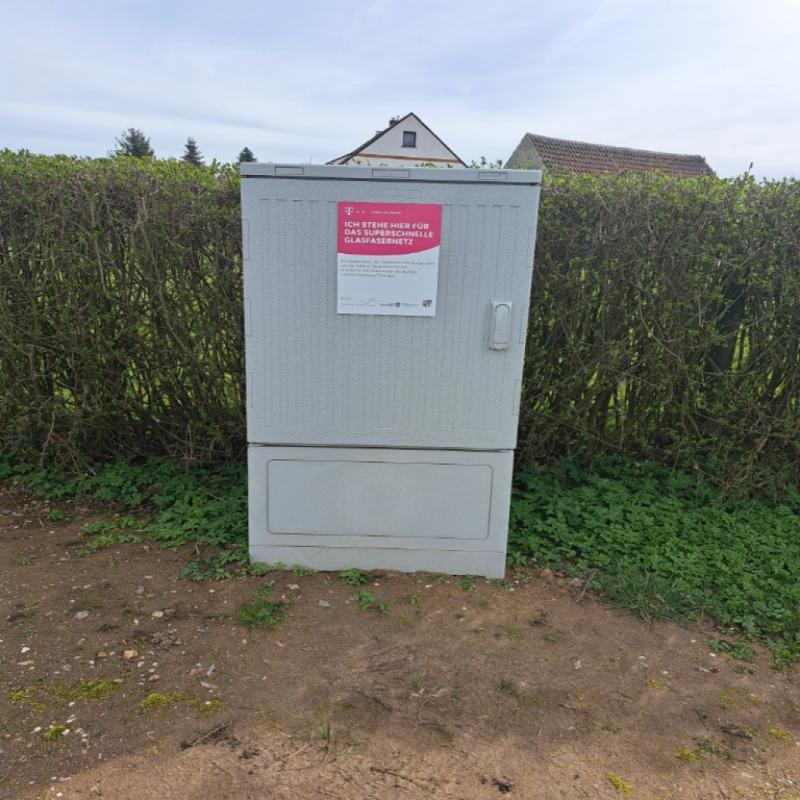NT-Gehause: (240, 163, 524, 575)
Steaker: (338, 202, 437, 310)
